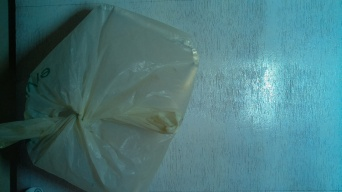f: (19, 3, 198, 190)
